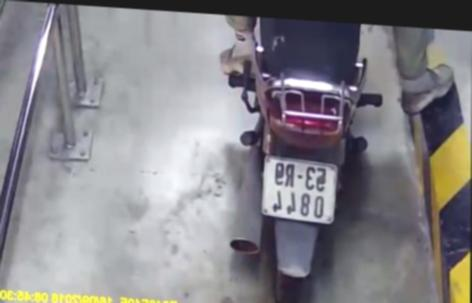License_Plate: (256, 154, 341, 225)
